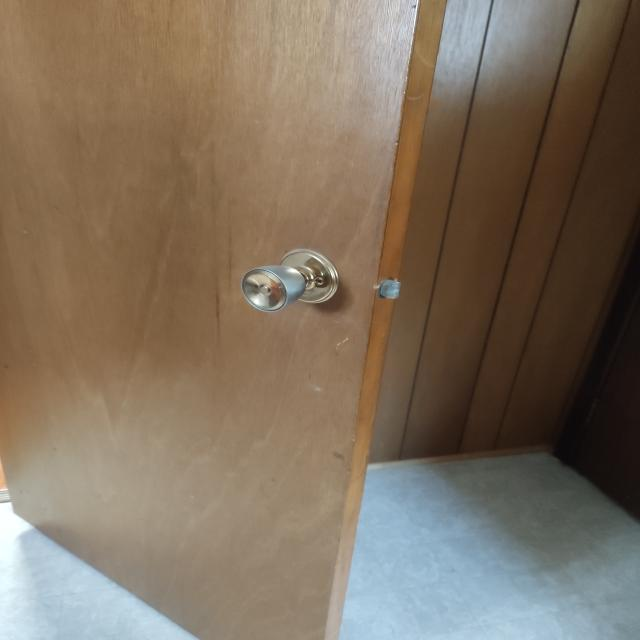door-knob: (242, 249, 339, 312)
